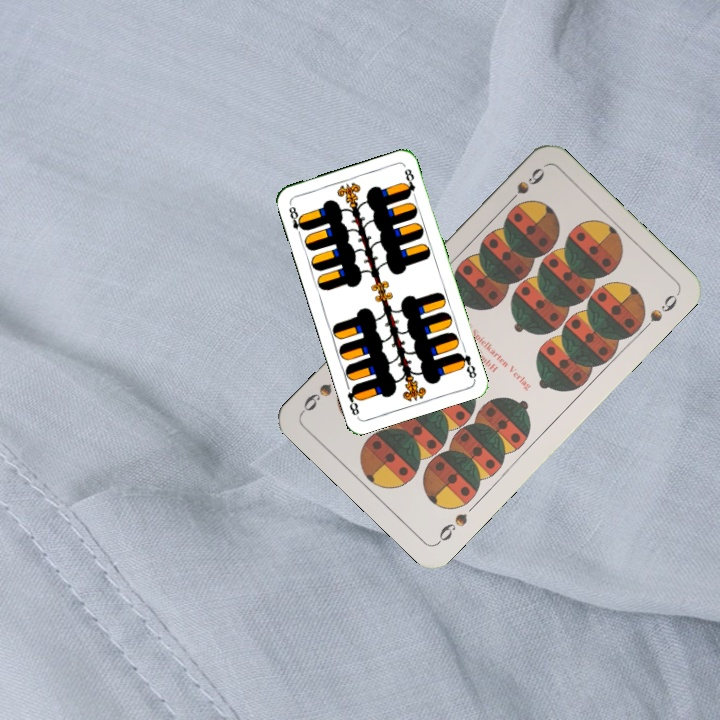E8: (285, 200, 308, 240), (454, 348, 479, 382)
S9: (501, 163, 548, 210), (433, 509, 470, 547)
